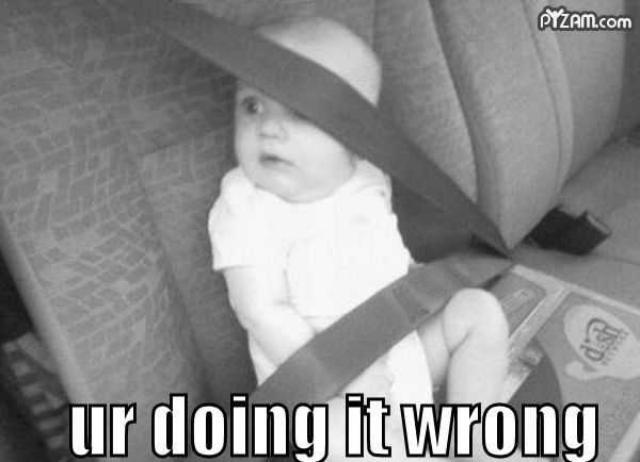Seatbelt: (112, 0, 516, 394)
